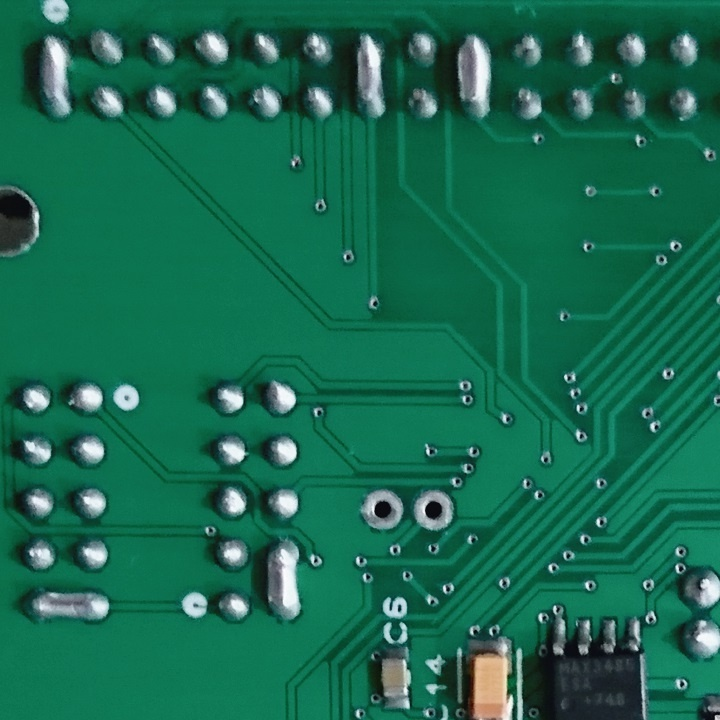F: (407, 486, 457, 536), (359, 486, 405, 535)
P: (450, 29, 496, 126), (19, 583, 114, 629), (34, 30, 76, 126), (347, 29, 390, 121), (262, 535, 304, 626)
